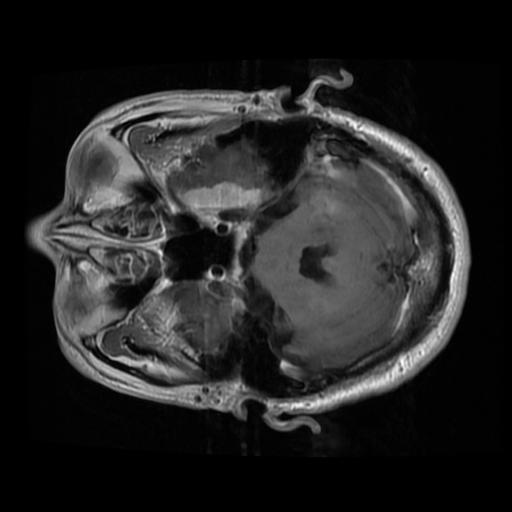meningioma: (179, 182, 264, 228)
